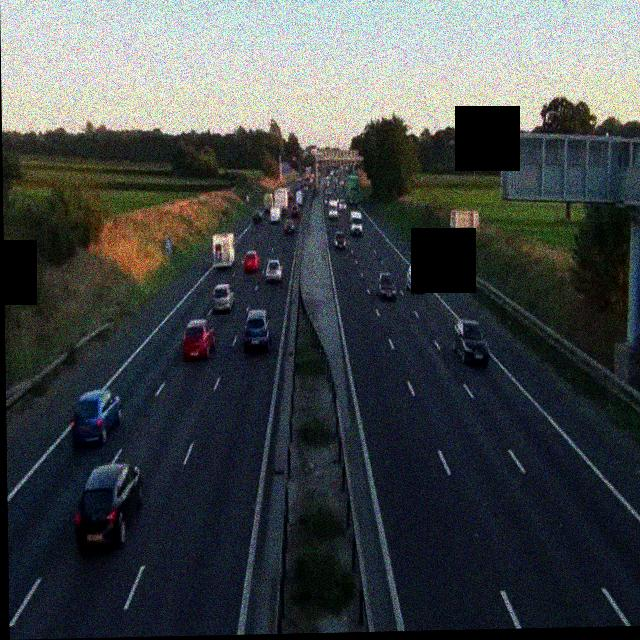bus: (211, 231, 235, 268)
car: (73, 462, 143, 550), (71, 388, 122, 446), (453, 318, 488, 367), (182, 315, 215, 360), (243, 310, 271, 350), (212, 283, 235, 313), (406, 264, 427, 293), (378, 272, 396, 300), (265, 257, 283, 282), (243, 250, 260, 273), (334, 230, 346, 250), (284, 218, 294, 234), (252, 210, 262, 224), (291, 205, 299, 218)
truck: (271, 188, 287, 219), (346, 174, 359, 209), (294, 188, 304, 211)
